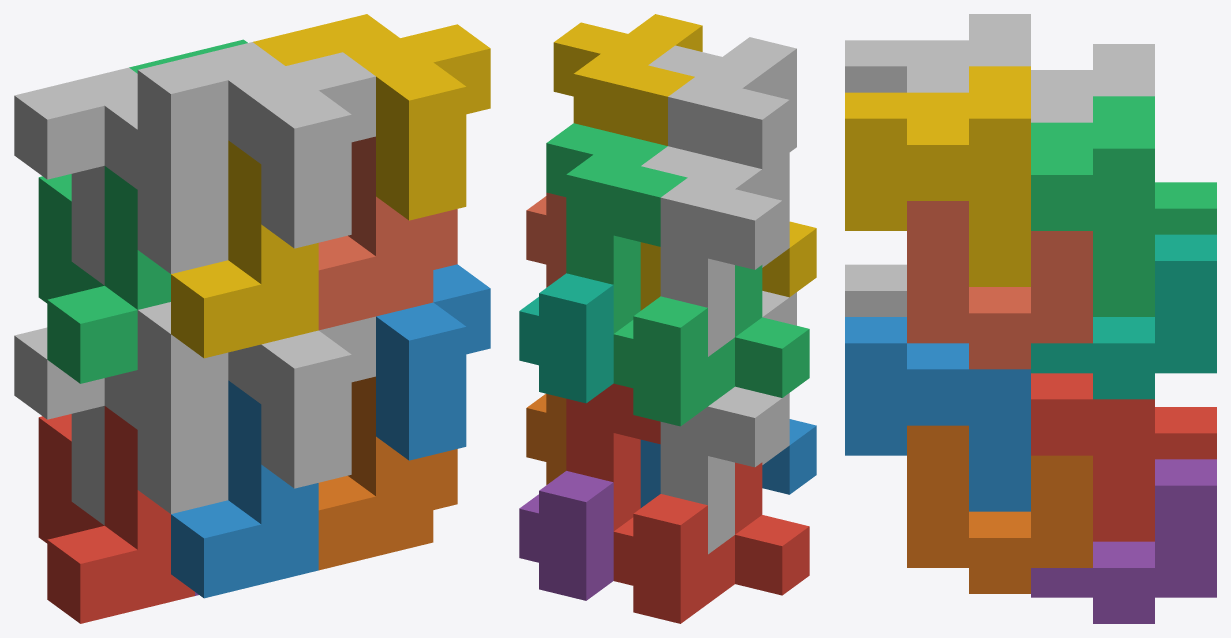
File: tiling.obj
3 renders of one model, left to right at view 1: azimuth 30°, elevation 25°; view 2: azimuth 150°, elevation 25°; view 3: azimuth 270°, elevation 25°, orthographic. The views are drawn at different scales.
Parts seen in each view (by area): view 1: copy_2_domain_4, copy_2_domain_3, copy_2_domain_8, copy_2_domain_2, copy_2_domain_1, copy_1_domain_1, copy_1_domain_3, copy_1_domain_2, copy_1_domain_4, copy_2_domain_6, copy_1_domain_6, copy_1_domain_8; view 2: copy_1_domain_1, copy_1_domain_3, copy_2_domain_3, copy_2_domain_7, copy_2_domain_4, copy_2_domain_8, copy_2_domain_1, copy_1_domain_5, copy_1_domain_7, copy_2_domain_5, copy_1_domain_2, copy_1_domain_4 (+3 smaller); view 3: copy_2_domain_8, copy_2_domain_6, copy_1_domain_6, copy_1_domain_8, copy_2_domain_7, copy_1_domain_7, copy_1_domain_5, copy_2_domain_5, copy_2_domain_4, copy_2_domain_3, copy_1_domain_1, copy_1_domain_3 (+1 smaller).
Boxes of the visible parts, x1,y1,x2,y2 form: copy_2_domain_4: [137, 42, 375, 248]; copy_2_domain_3: [14, 67, 228, 285]; copy_2_domain_8: [253, 14, 490, 220]; copy_2_domain_2: [137, 302, 375, 488]; copy_2_domain_1: [14, 327, 228, 525]; copy_1_domain_1: [38, 406, 194, 623]; copy_1_domain_3: [38, 166, 170, 383]; copy_1_domain_2: [171, 380, 318, 598]; copy_1_domain_4: [171, 140, 318, 358]; copy_2_domain_6: [376, 264, 490, 460]; copy_1_domain_6: [318, 376, 457, 570]; copy_1_domain_8: [318, 136, 457, 330]; copy_1_domain_1: [613, 462, 809, 623]; copy_1_domain_3: [613, 265, 809, 426]; copy_2_domain_3: [641, 146, 789, 356]; copy_2_domain_7: [546, 123, 687, 333]; copy_2_domain_4: [648, 37, 796, 168]; copy_2_domain_8: [553, 14, 702, 145]; copy_2_domain_1: [660, 386, 789, 554]; copy_1_domain_5: [519, 471, 613, 600]; copy_1_domain_7: [519, 273, 613, 403]; copy_2_domain_5: [566, 383, 660, 530]; copy_1_domain_2: [640, 419, 816, 507]; copy_1_domain_4: [640, 221, 816, 310]; copy_2_domain_8: [845, 66, 1030, 286]; copy_2_domain_6: [845, 317, 1030, 511]; copy_1_domain_6: [907, 425, 1092, 593]; copy_1_domain_8: [907, 201, 1092, 369]; copy_2_domain_7: [1031, 96, 1154, 316]; copy_1_domain_7: [1031, 234, 1216, 399]; copy_1_domain_5: [1031, 459, 1216, 623]; copy_2_domain_5: [1031, 373, 1154, 541]; copy_2_domain_4: [845, 14, 1030, 92]; copy_2_domain_3: [1031, 44, 1154, 122]; copy_1_domain_1: [1155, 407, 1216, 459]; copy_1_domain_3: [1155, 182, 1216, 234].
Size of the model in its own units: 6 by 9 by 6.
